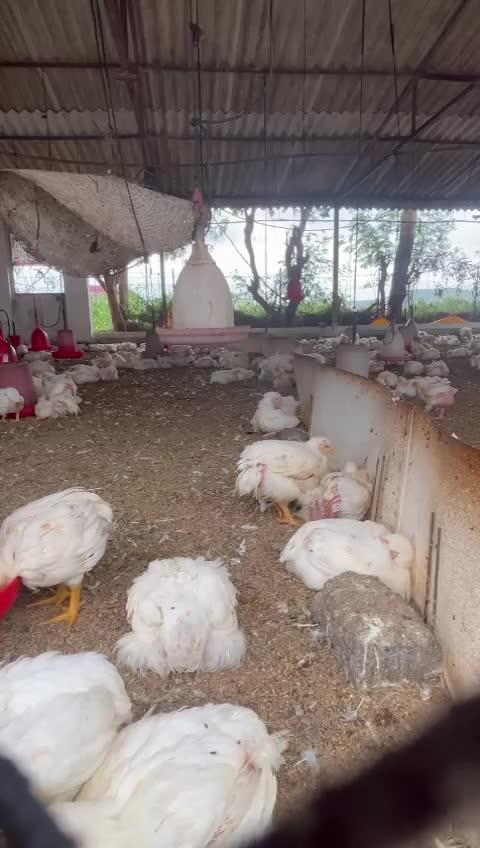AbNormal: (0, 649, 139, 848), (110, 704, 280, 848), (124, 555, 245, 674), (280, 519, 413, 594), (305, 462, 377, 521), (252, 384, 305, 434), (44, 379, 84, 425), (209, 367, 255, 389), (70, 364, 120, 383), (261, 357, 297, 380)
Normal: (0, 485, 112, 610), (237, 434, 340, 522), (417, 377, 459, 416), (0, 385, 24, 423)
